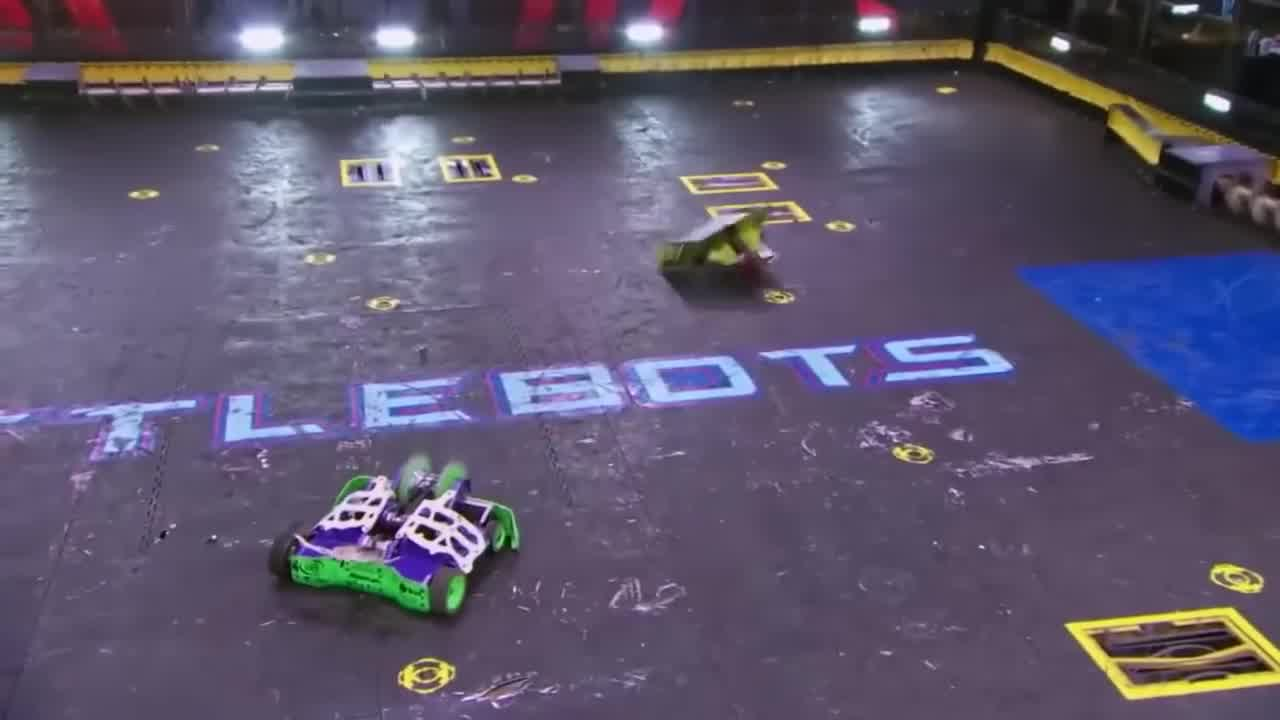combatbot: (268, 453, 523, 618), (654, 198, 789, 299)
